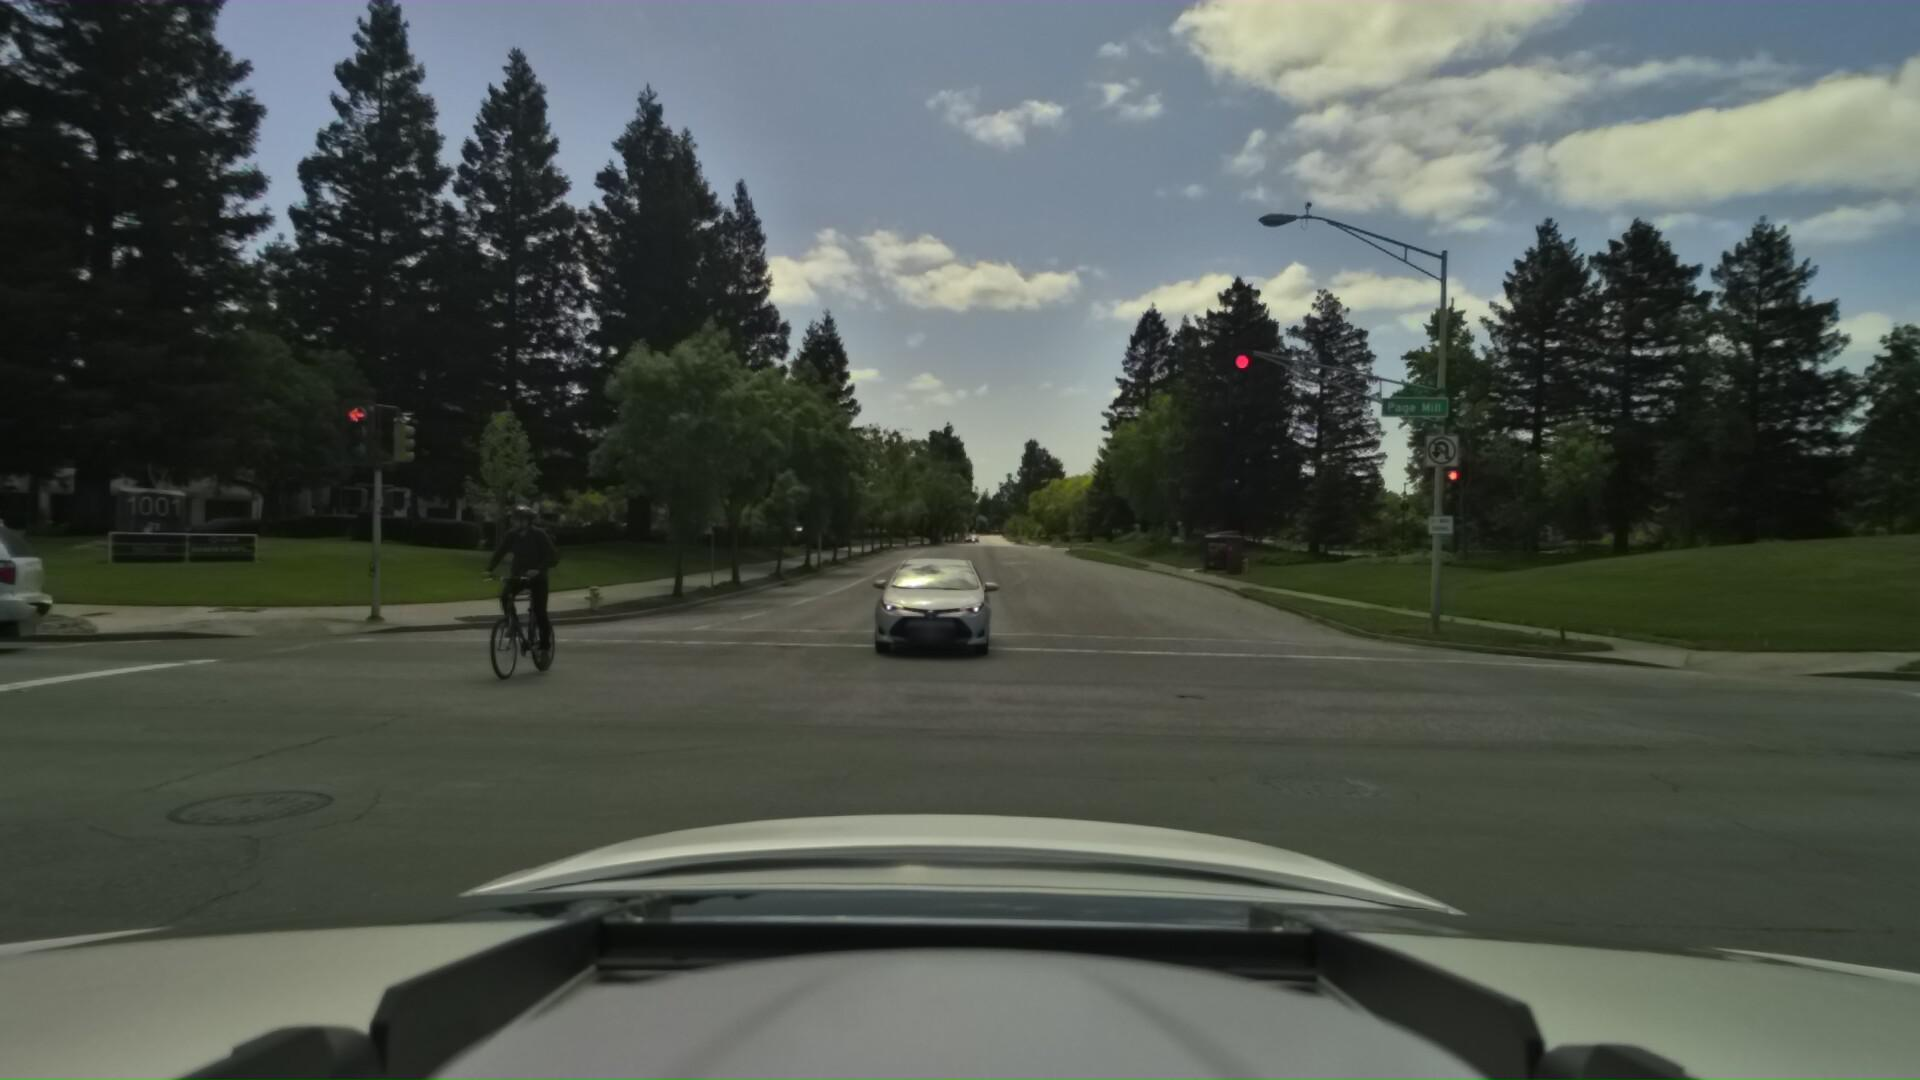bicycle: (456, 493, 607, 684)
car: (856, 538, 986, 657), (0, 497, 83, 671)
